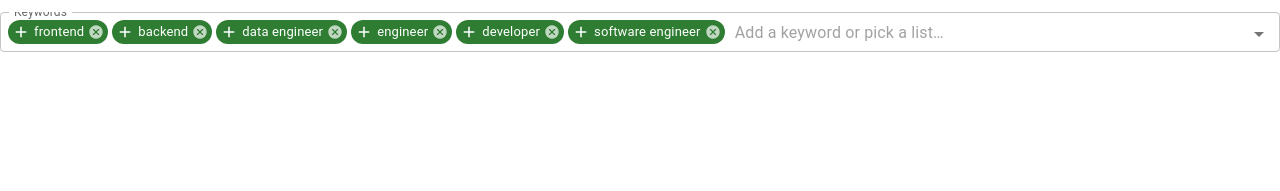
Test: KeywordFilterInput › active-list indicator (checkmark) › marks a list with a checkmark when the current tags equal its tags (order-insensitive)
The width and height of the screenshot is (1280, 191).
Click the dropdown labelled "Keywords": [971, 32] box [727, 18, 1215, 46]
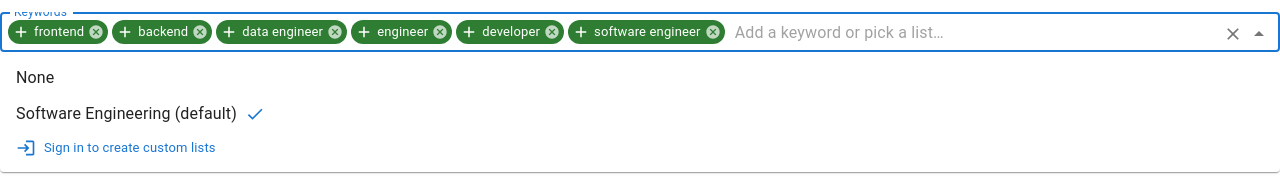
Now the icon with test id "CheckIcon" is shown, box [245, 104, 265, 124]
